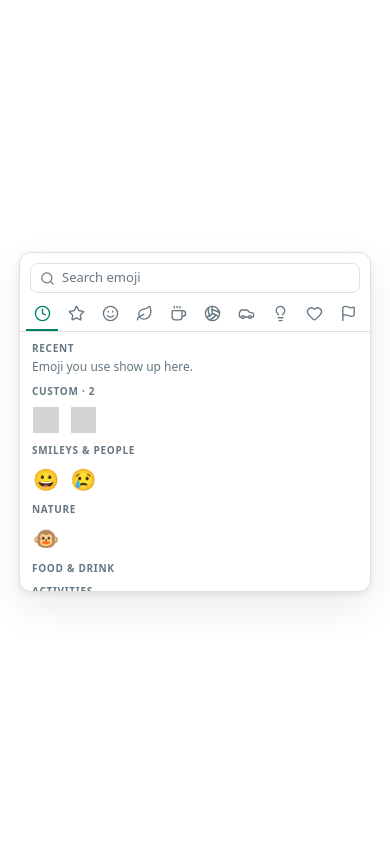
Test: EmojiPicker › the card reads "Added <date>" when the adder is unknown
Hover over the button named ":moogle:" at [83, 420], box [65,402,101,438]
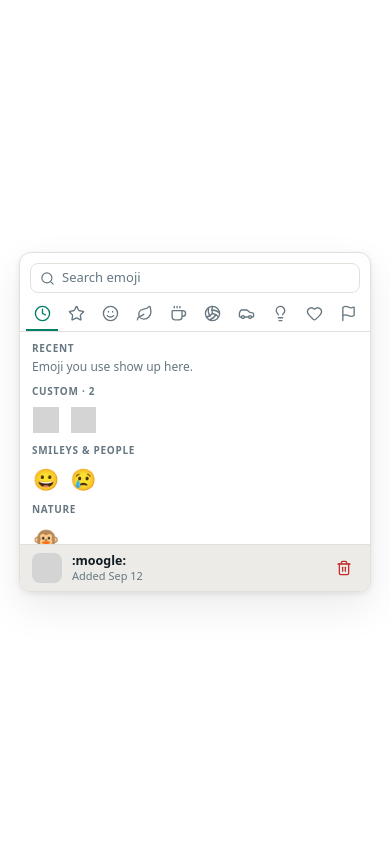
Now the text "Added Sep 12" is shown, box [72,568,143,583]
